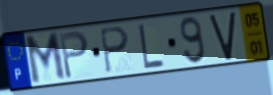9: (178, 15, 208, 66)
L: (137, 22, 167, 70)
M: (23, 30, 68, 87)
P: (57, 29, 91, 82), (98, 25, 131, 76)
V: (207, 9, 237, 62)
